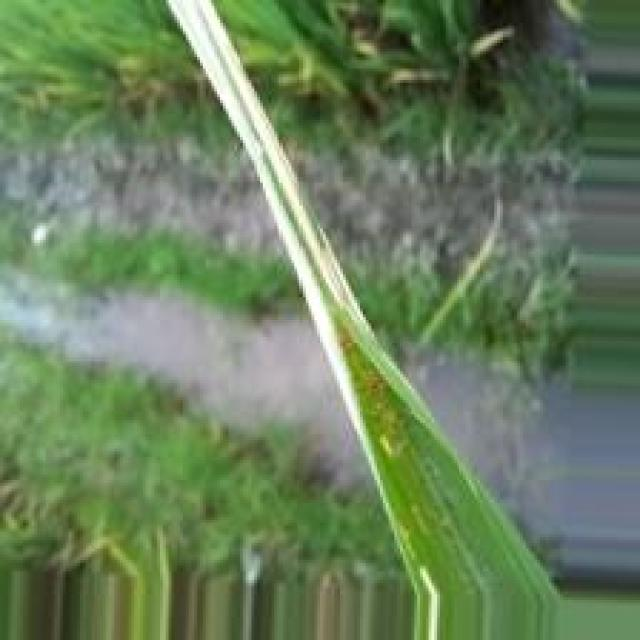Leaf_Scald: (173, 3, 336, 352)
